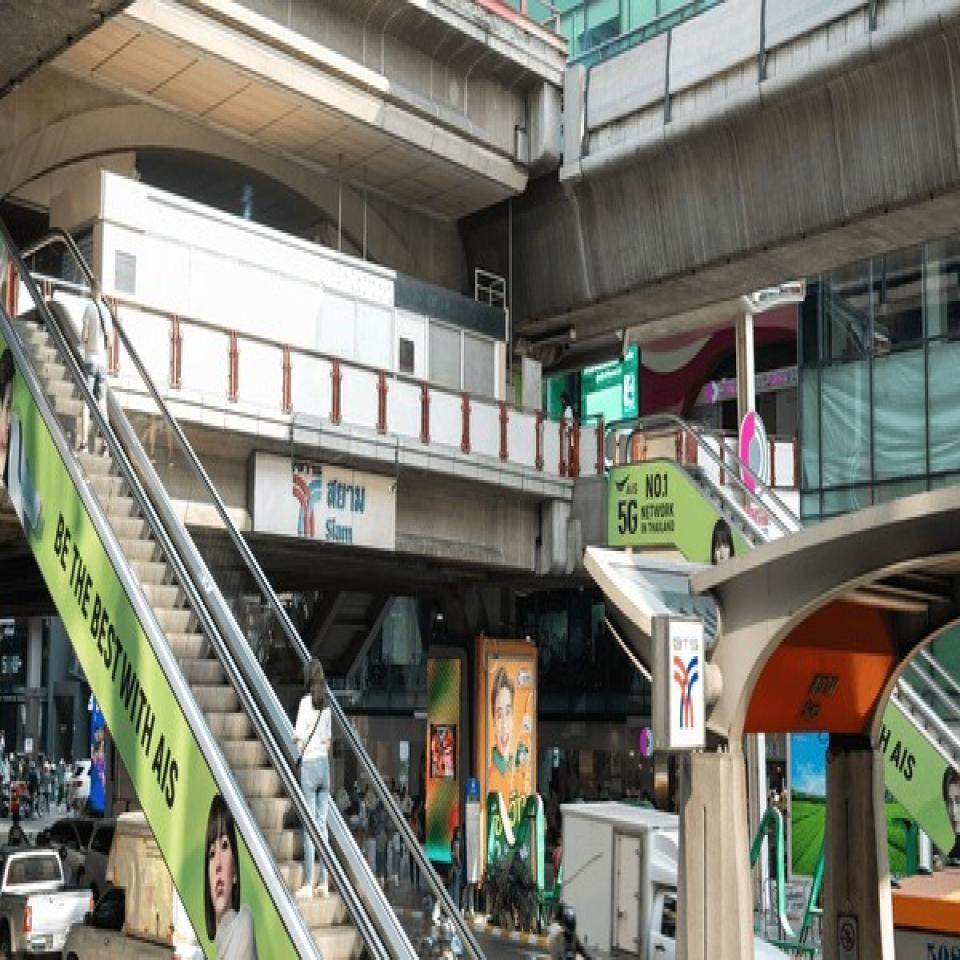signage: (292, 460, 367, 544), (325, 477, 366, 544)
